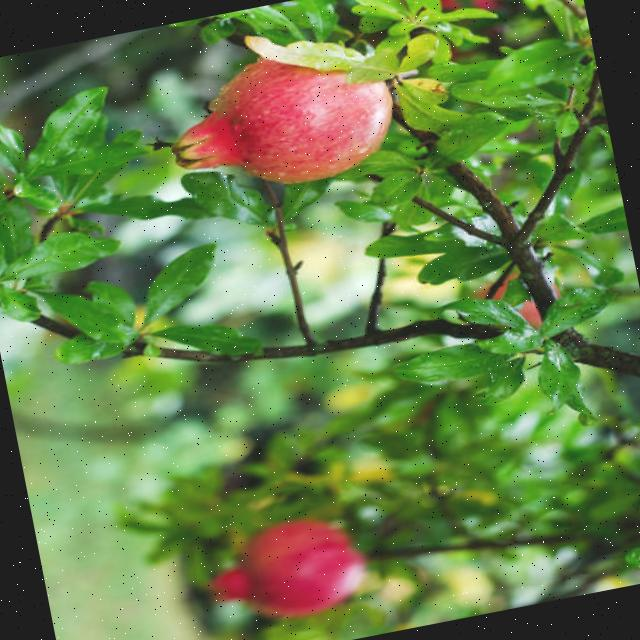Ripe: (158, 28, 413, 215), (195, 504, 378, 634)
